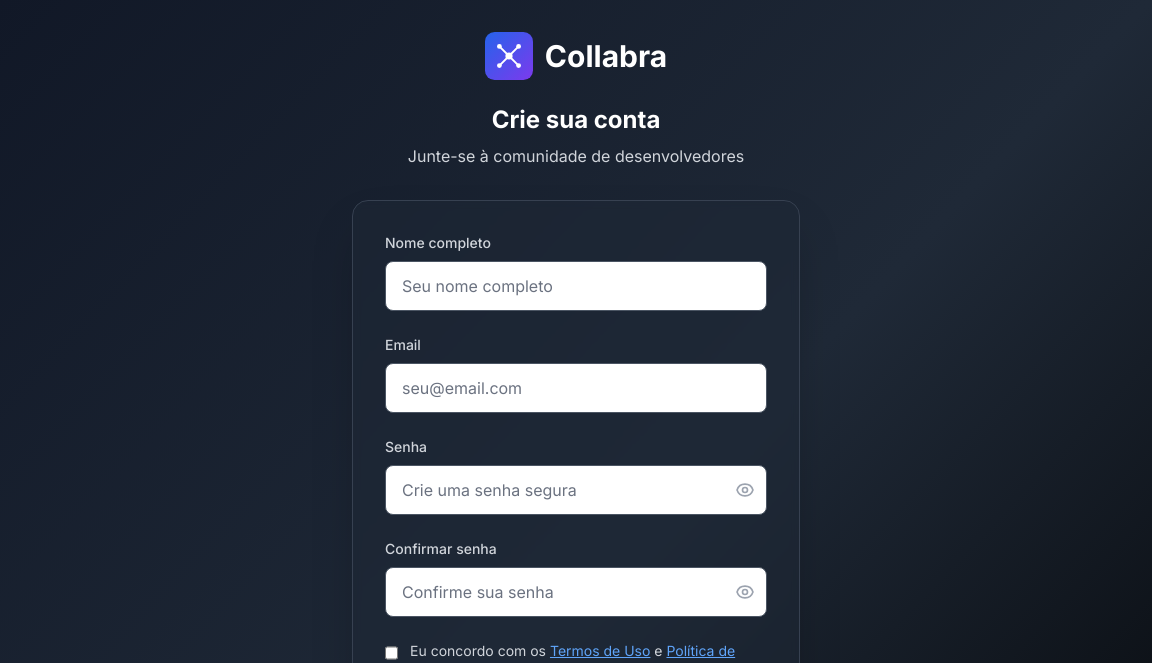
it: Register Page › should show password requirements validation
This screenshot has width=1152, height=663.
Test weak password
Type "123" into the password field with placeholder "Crie uma senha segura" at [576, 490], box left=385, top=465, right=767, bottom=515
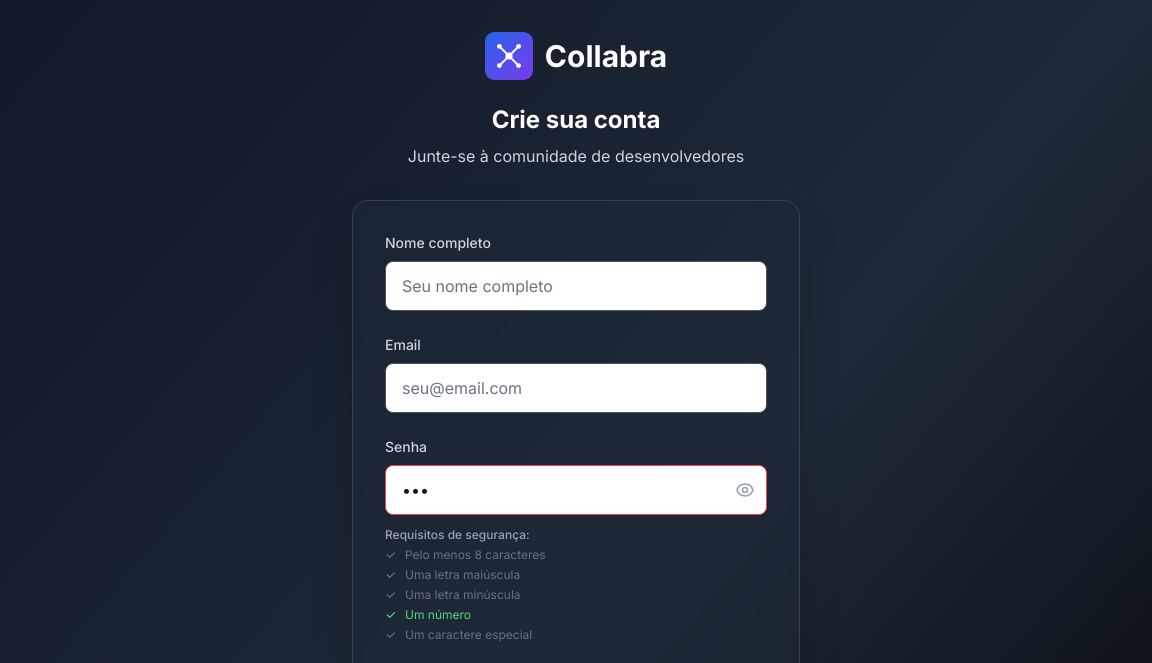
Expected: the text "Pelo menos 8 caracteres" is shown, left=405, top=547, right=546, bottom=563
Expected: the text "Uma letra maiúscula" is shown, left=405, top=567, right=520, bottom=583
Expected: the text "Uma letra minúscula" is shown, left=405, top=587, right=520, bottom=603
